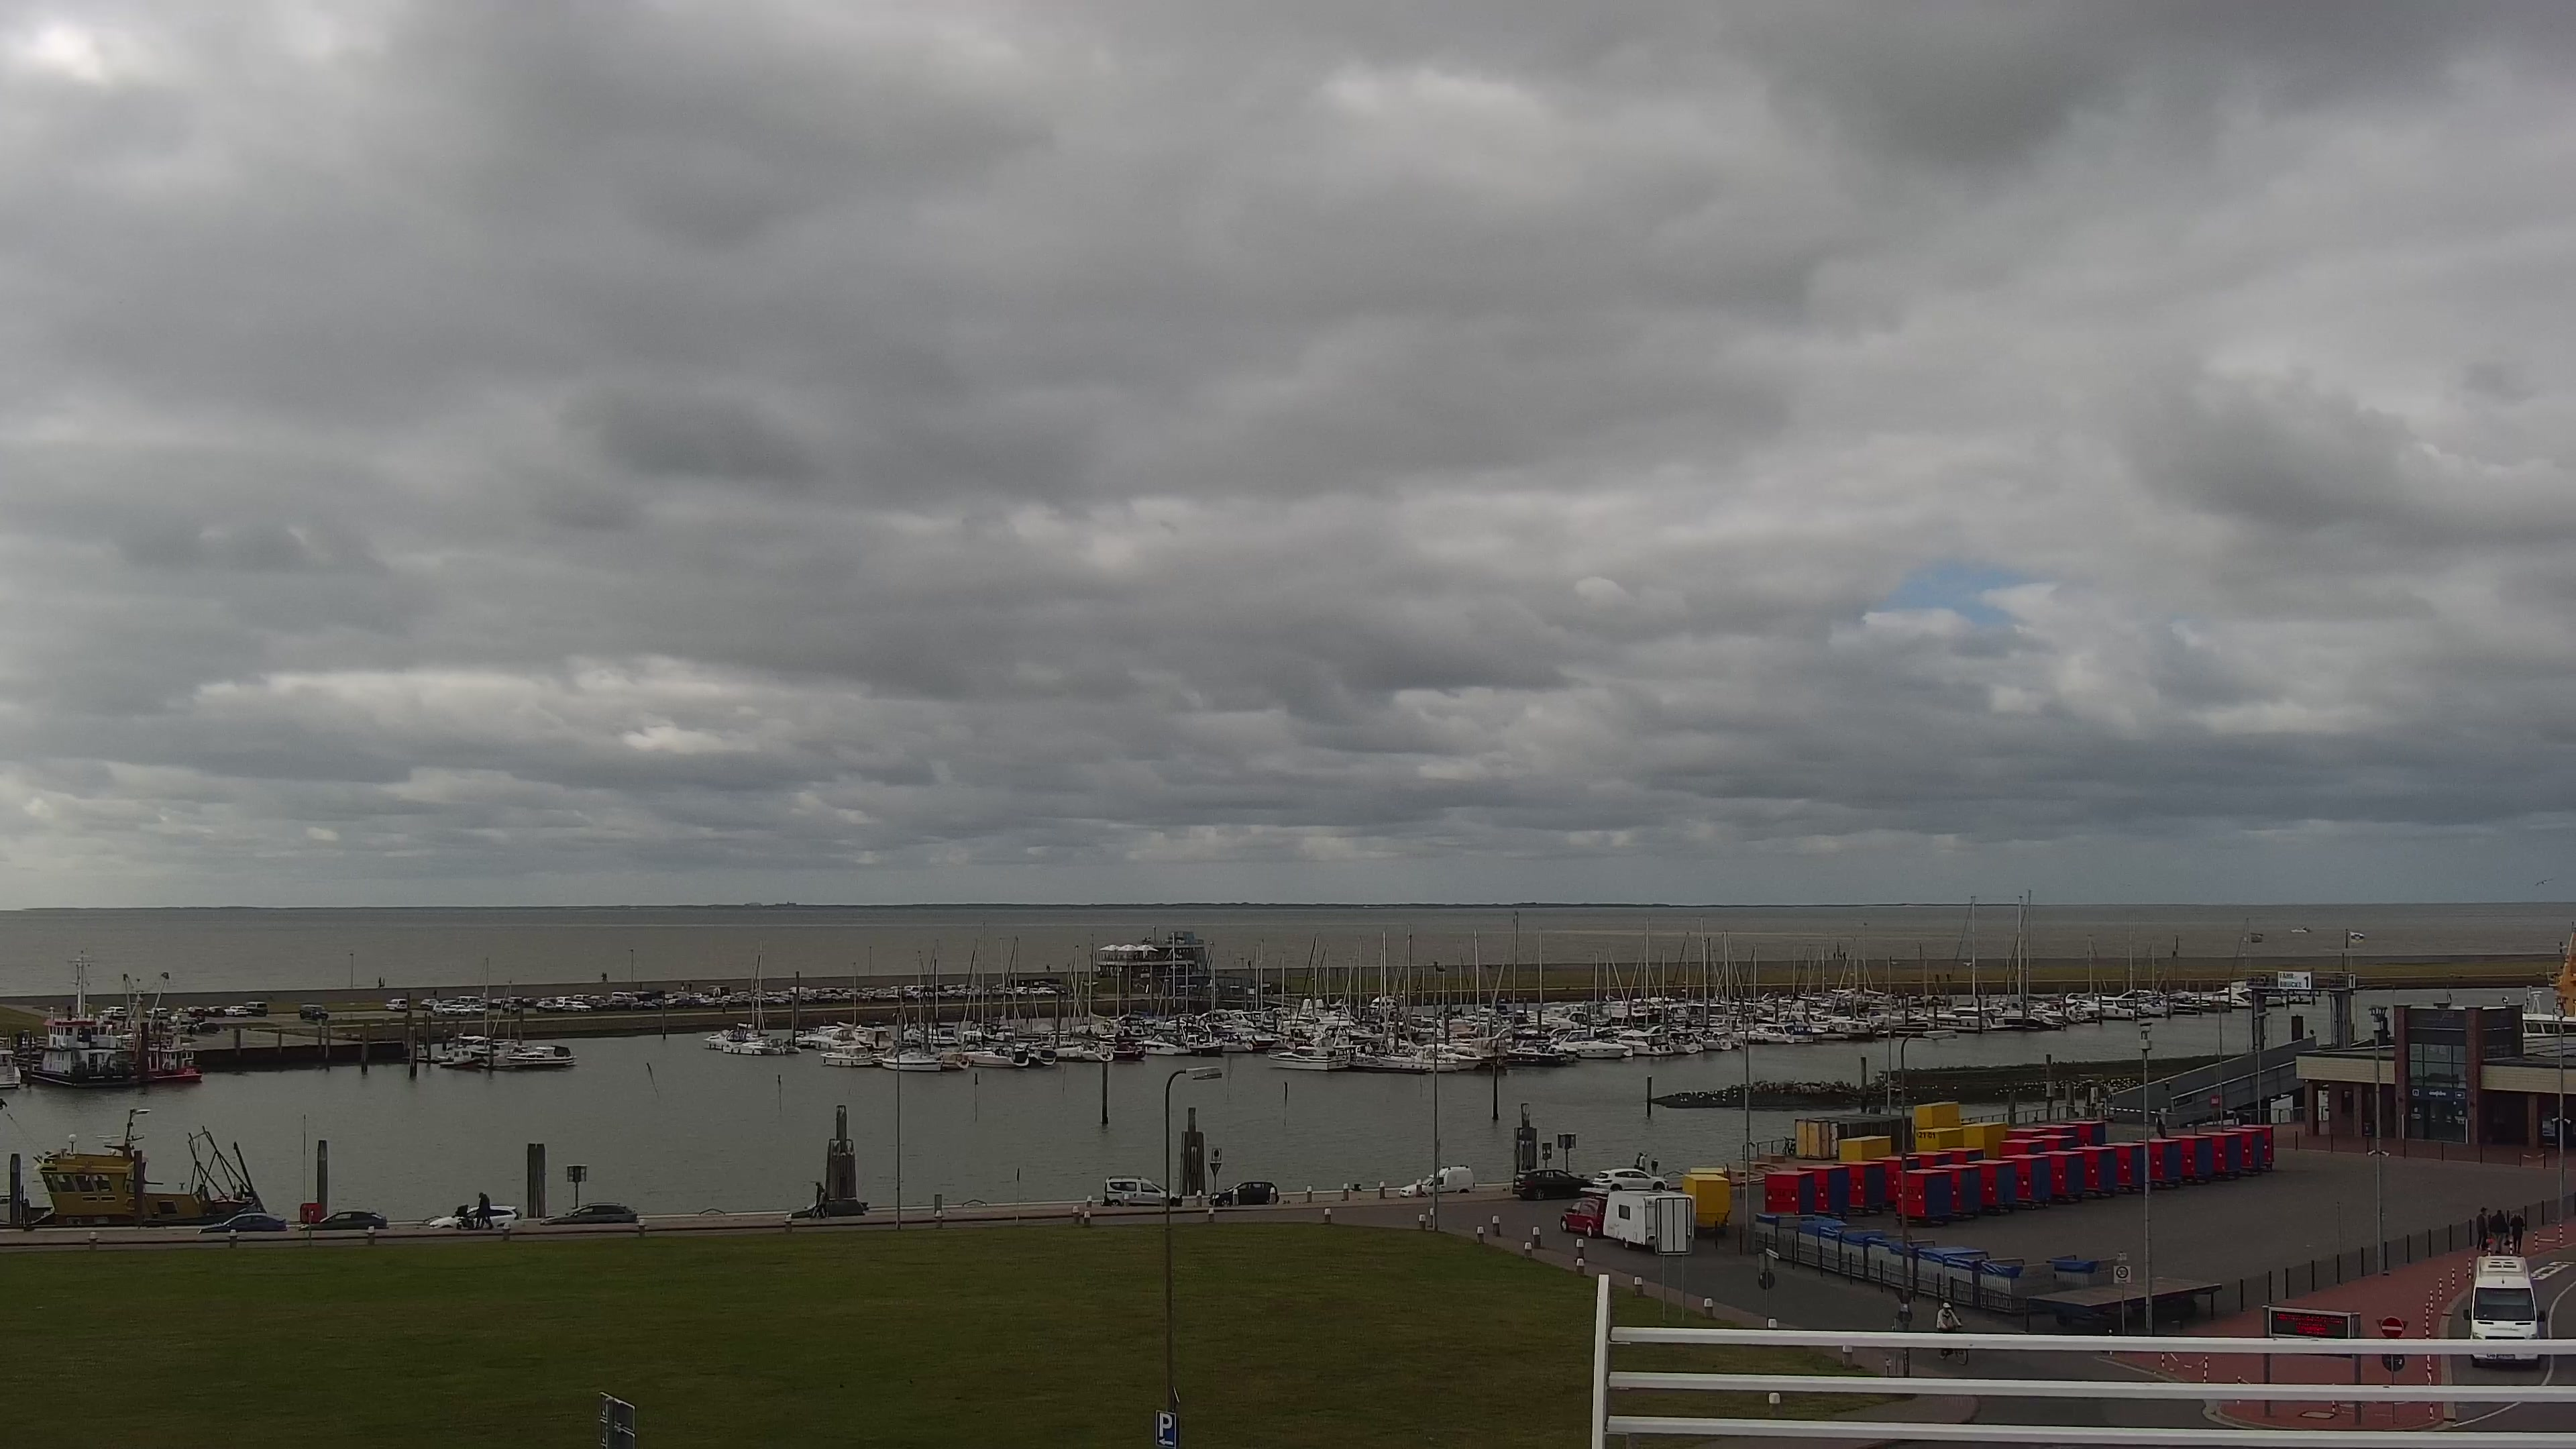human: (1936, 1301, 1961, 1353), (2488, 1209, 2510, 1255), (2509, 1212, 2524, 1256), (2475, 1206, 2489, 1252), (810, 1181, 826, 1218), (475, 1191, 488, 1228), (478, 1193, 492, 1230), (815, 1187, 828, 1219), (1639, 1152, 1648, 1173), (1635, 1149, 1644, 1169), (1650, 1157, 1659, 1177), (378, 976, 382, 989), (381, 977, 386, 989), (600, 971, 605, 983), (721, 1002, 727, 1014), (603, 972, 608, 983), (680, 981, 685, 991), (1047, 963, 1051, 973), (1247, 959, 1251, 970), (1833, 951, 1836, 960), (433, 989, 437, 998), (688, 981, 692, 991), (1045, 963, 1049, 972), (1843, 951, 1845, 960), (1839, 954, 1842, 961)
land: (2461, 1254, 2545, 1368), (1560, 1189, 1694, 1256), (1398, 1164, 1476, 1199), (1099, 1175, 1184, 1207), (1511, 1168, 1596, 1200), (538, 1200, 639, 1226), (197, 1211, 286, 1234), (427, 1204, 521, 1228), (297, 1210, 388, 1231), (1208, 1181, 1280, 1207), (786, 1196, 865, 1219), (1591, 1167, 1670, 1191), (1937, 1324, 1970, 1365), (299, 1004, 329, 1021), (244, 1001, 268, 1017), (101, 1006, 127, 1020), (432, 1003, 458, 1017), (584, 998, 611, 1012), (384, 998, 409, 1012), (144, 1007, 169, 1020), (223, 1005, 248, 1017), (1046, 982, 1071, 994), (535, 1000, 557, 1014), (610, 991, 639, 1002), (168, 1012, 191, 1024), (651, 998, 674, 1010), (205, 1005, 226, 1018), (419, 998, 440, 1010), (570, 1001, 592, 1013), (610, 998, 631, 1010), (720, 995, 741, 1006), (737, 994, 757, 1006), (788, 986, 810, 996), (449, 1004, 471, 1016), (753, 994, 773, 1004), (878, 991, 899, 1001), (455, 996, 480, 1005), (467, 1004, 487, 1015), (502, 1003, 521, 1014), (637, 1000, 657, 1010), (825, 993, 844, 1004), (1037, 986, 1057, 996), (947, 989, 965, 999), (673, 991, 688, 1003), (779, 990, 794, 1003), (491, 998, 510, 1009), (689, 991, 710, 999), (798, 994, 815, 1004), (698, 998, 715, 1008), (183, 1006, 204, 1016), (522, 998, 539, 1008), (815, 993, 832, 1004), (555, 1001, 573, 1011), (768, 996, 785, 1006), (904, 984, 921, 992), (686, 998, 700, 1008), (859, 991, 874, 1002), (900, 989, 913, 1000), (937, 989, 951, 1000), (1000, 986, 1014, 996), (572, 994, 591, 1001), (1027, 986, 1040, 996), (554, 996, 571, 1003), (441, 998, 458, 1006), (660, 993, 678, 1000), (809, 988, 822, 998), (1013, 985, 1027, 995), (861, 986, 876, 995), (877, 986, 892, 994), (713, 997, 724, 1007), (735, 991, 751, 998), (765, 990, 780, 998), (843, 992, 855, 1002), (508, 996, 523, 1004), (822, 987, 837, 994), (836, 987, 849, 994)
sea: (1, 1107, 267, 1228), (5, 950, 139, 1089), (1990, 887, 2065, 1030), (1925, 895, 2002, 1026), (119, 970, 202, 1082), (721, 938, 785, 1055), (1986, 894, 2047, 1012), (448, 950, 508, 1059), (2066, 933, 2115, 1005), (477, 979, 521, 1051), (813, 1020, 893, 1052), (1547, 1029, 1629, 1057), (1115, 965, 1146, 1036), (1375, 1046, 1458, 1072), (2147, 942, 2175, 1018), (1267, 1045, 1348, 1070), (957, 1041, 1028, 1067), (880, 1046, 941, 1070), (1609, 1032, 1674, 1056), (504, 1044, 576, 1066), (1136, 1031, 1191, 1055), (1505, 1045, 1567, 1065), (818, 1043, 873, 1067), (1434, 1044, 1483, 1069), (2084, 996, 2135, 1018), (1, 1036, 21, 1090), (1011, 1040, 1055, 1065), (2206, 985, 2252, 1008), (437, 1046, 481, 1067), (1747, 1024, 1794, 1043), (916, 1024, 959, 1046), (1183, 1034, 1223, 1055), (1834, 1021, 1875, 1040), (1718, 1022, 1743, 1052), (1543, 1010, 1588, 1028), (1110, 1040, 1145, 1060), (1667, 1034, 1703, 1053), (1218, 1030, 1250, 1051), (1079, 1040, 1114, 1060), (445, 1034, 490, 1050), (934, 1051, 969, 1069), (702, 1028, 730, 1049), (1815, 1023, 1847, 1040), (1247, 1033, 1279, 1050), (1790, 1024, 1813, 1042), (851, 1020, 858, 1052), (2290, 924, 2308, 932)
